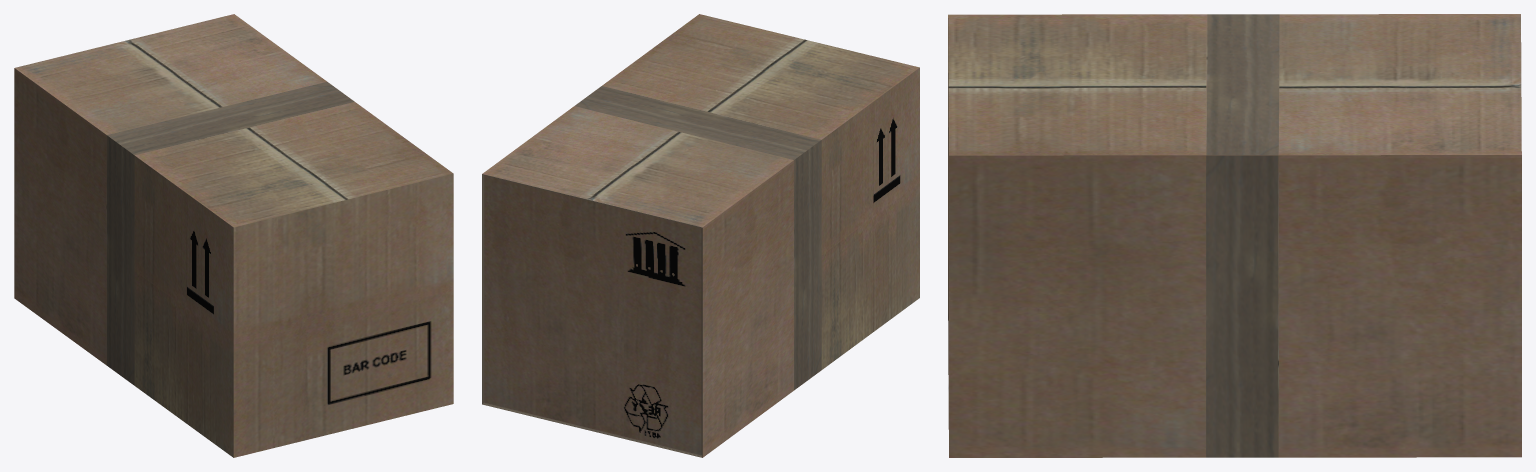
File: warehouse_box_2.fbx
3 views of the same model, side by side, from view 1: azimuth 30°, elevation 25°; view 2: azimuth 150°, elevation 25°; view 3: azimuth 270°, elevation 25° (orthographic). The views are drawn at different scales.
Visible parts, largest first — view 1: box; view 2: box; view 3: box.
Boxes of the visible parts, <box> form: box: <box>14,14,453,457</box>; box: <box>482,14,919,457</box>; box: <box>948,14,1521,457</box>.
Size of the model in its own units: 34.43 by 34.28 by 58.94.
